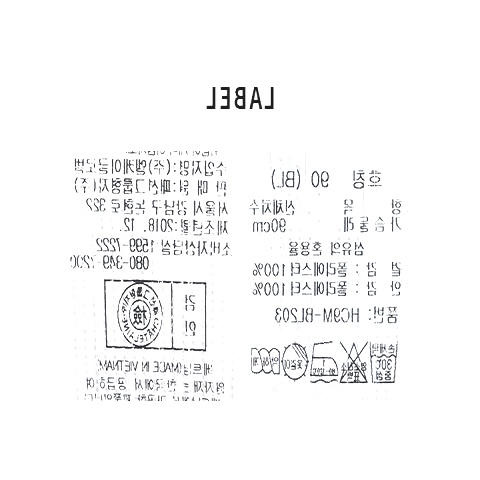DN_bleach: (337, 341, 368, 385)
hand_wash: (367, 339, 397, 385)
iron_low: (310, 341, 339, 382)
line_dry_in_shade: (281, 340, 309, 384)
wring: (249, 343, 280, 379)
